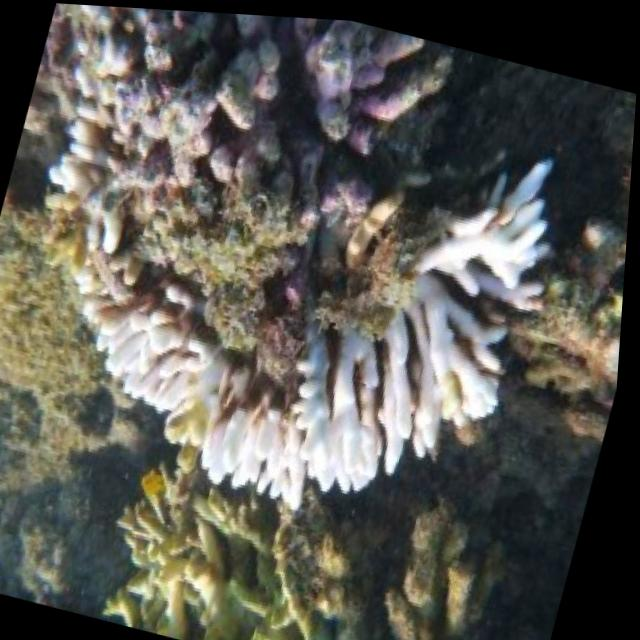Bleached Coral: (269, 167, 615, 561), (37, 240, 334, 548)
